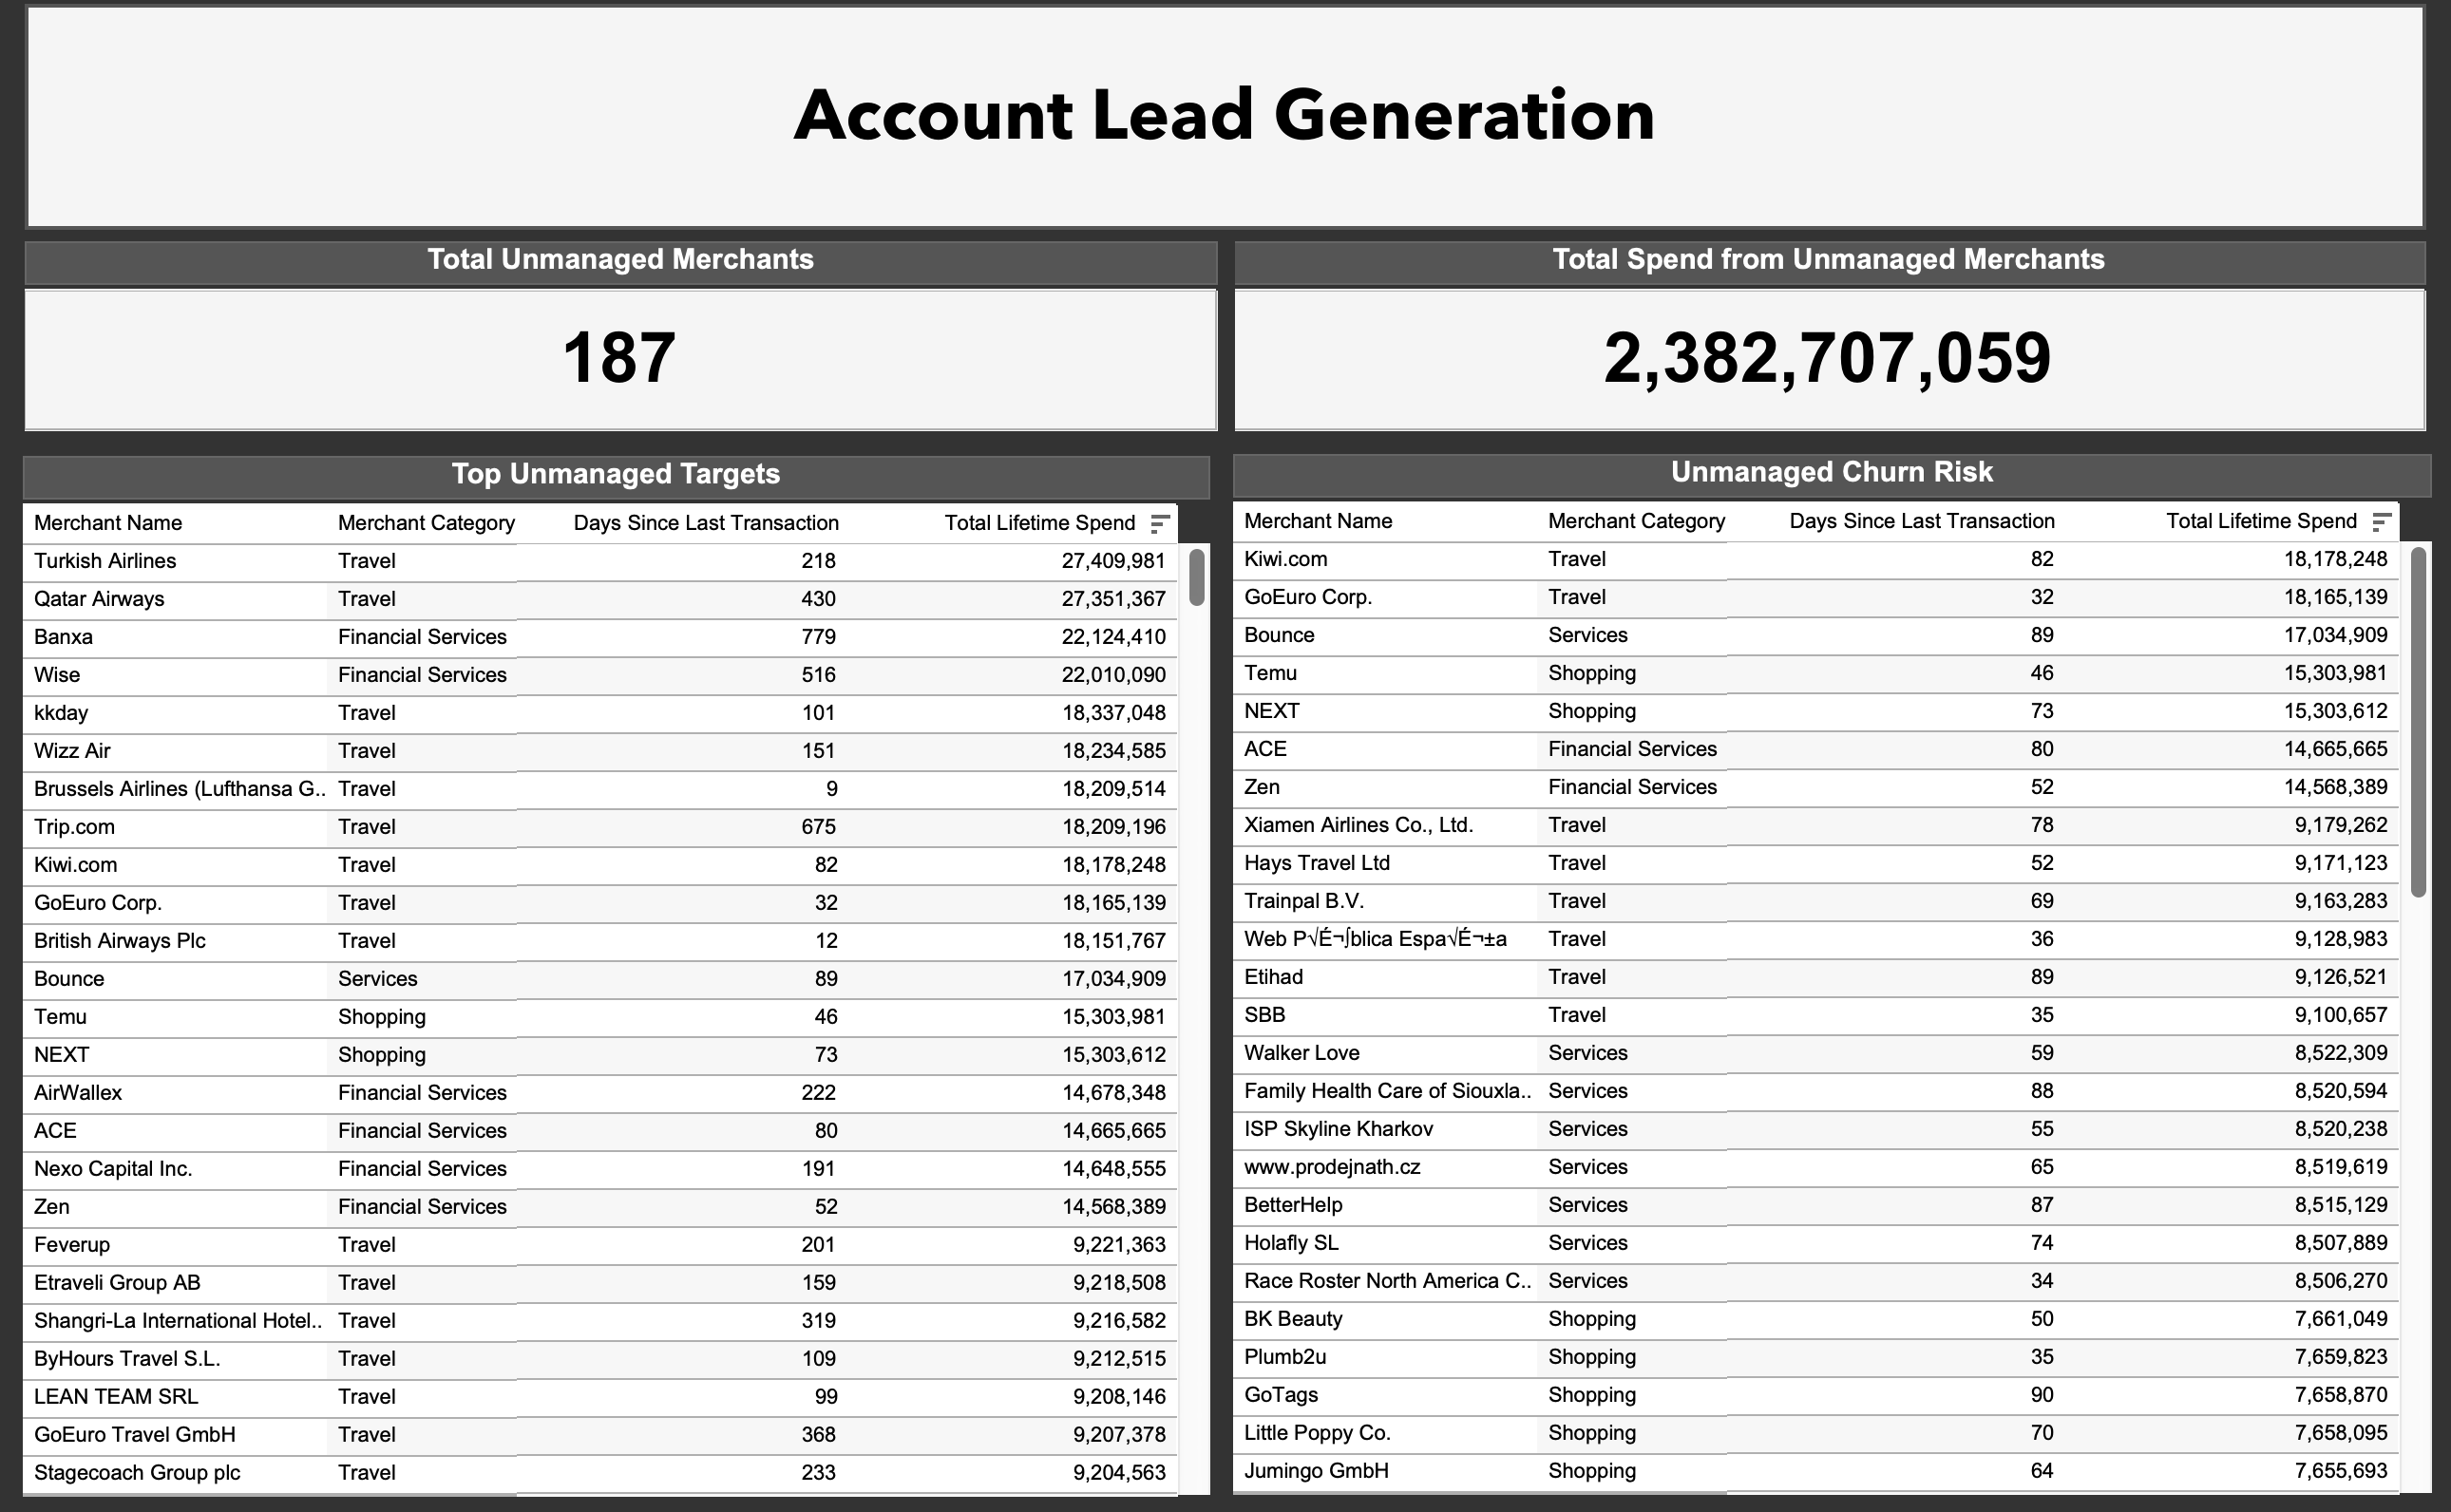

What the dashboard file says about the page in this screenshot:
{"tool":"tableau","page":{"name":"Account Lead Generation","canvas":[1300,800],"ordinal":0},"visuals":[{"type":"text","box":[21,4,1264,119]},{"type":"worksheet","title":"Total Unmanaged Merchants","mark":"Automatic","box":[17,125,636.5,108]},{"type":"worksheet","title":"Total Spend from Unmanaged Merchants","mark":"Automatic","box":[653.5,125,636.5,108]},{"type":"worksheet","title":"Unmanaged Churn Risk","mark":"Automatic","rows":["MERCHANT_NAME","MERCHANT_CATEGORY"],"box":[657,241,631,548]},{"type":"worksheet","title":"Top Unmanaged Targets","mark":"Automatic","rows":["MERCHANT_NAME","MERCHANT_CATEGORY"],"box":[20,242,625,548]}]}

Visuals, with their boxes in screenshot pixels (x1, y1, x2, y2), scaled from the page's 1300x800 canvas onto the 2451x1512 screenshot:
text: [x1=40, y1=8, x2=2422, y2=233]
"Total Unmanaged Merchants" worksheet: [x1=32, y1=236, x2=1232, y2=441]
"Total Spend from Unmanaged Merchants" worksheet: [x1=1232, y1=236, x2=2432, y2=441]
"Unmanaged Churn Risk" worksheet: [x1=1239, y1=456, x2=2428, y2=1491]
"Top Unmanaged Targets" worksheet: [x1=38, y1=458, x2=1216, y2=1493]
